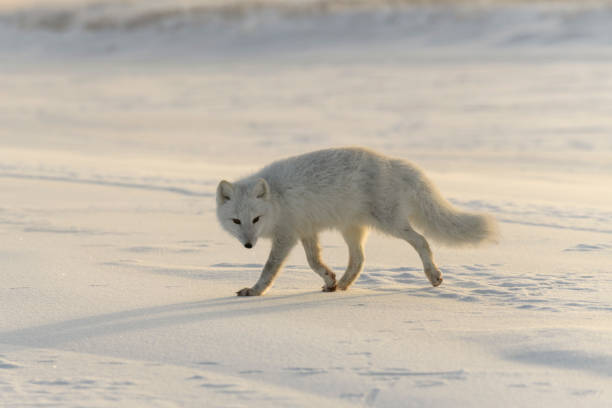arcticfox: (225, 201, 272, 257)
